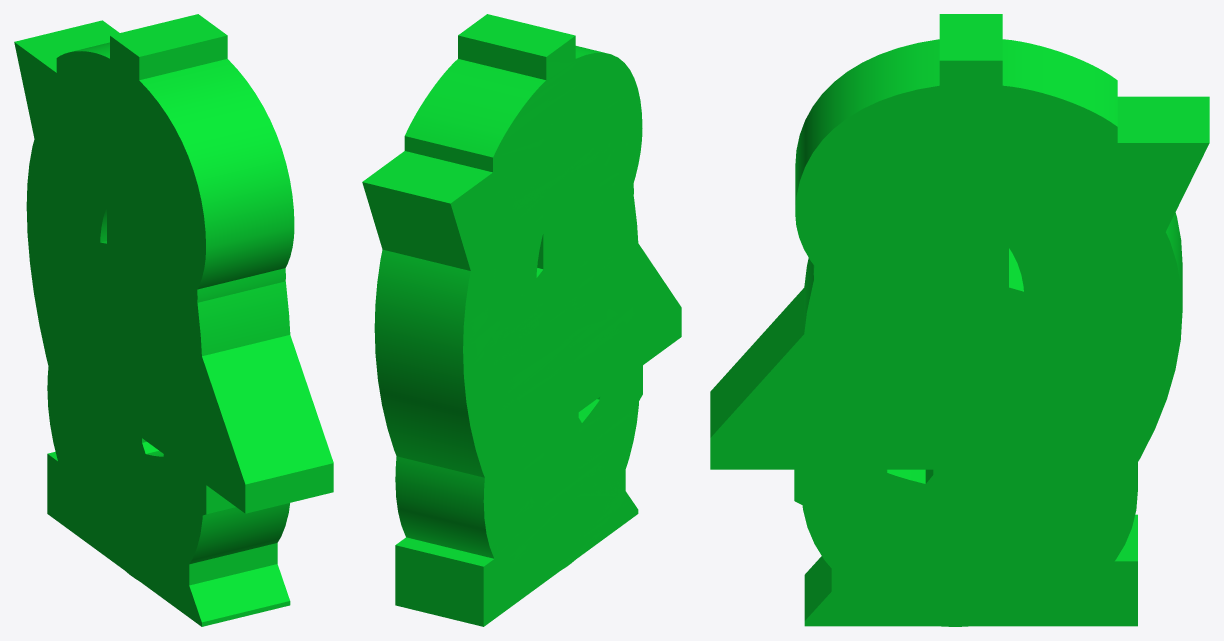
Rendered from sayilar2.fbx.
3 renders of one model, left to right at view 1: azimuth 30°, elevation 25°; view 2: azimuth 150°, elevation 25°; view 3: azimuth 270°, elevation 25°, orthographic. The views are drawn at different scales.
Visible parts, largest first — view 1: dollar, 4, 0, 2, 1, 8, 7, 5, 3, 9, 6; view 2: dollar, 9, 8, 4, 7, 2, 0, 1, 5, 6, 3; view 3: dollar, 0, 3, 4, 2, 8, 9, 6, 7, 5, 1.
Boxes of the visible parts, x1=… form: dollar: x1=45, y1=14, x2=294, y2=580; 4: x1=81, y1=222, x2=333, y2=574; 0: x1=46, y1=108, x2=290, y2=576; 2: x1=47, y1=122, x2=290, y2=626; 1: x1=107, y1=119, x2=189, y2=582; 8: x1=47, y1=105, x2=289, y2=579; 7: x1=14, y1=20, x2=171, y2=568; 5: x1=50, y1=95, x2=277, y2=592; 3: x1=53, y1=107, x2=181, y2=588; 9: x1=26, y1=93, x2=178, y2=541; 6: x1=56, y1=105, x2=203, y2=581; dollar: x1=404, y1=14, x2=642, y2=568; 9: x1=374, y1=131, x2=614, y2=549; 8: x1=395, y1=112, x2=639, y2=582; 4: x1=517, y1=137, x2=681, y2=581; 7: x1=362, y1=88, x2=608, y2=485; 2: x1=395, y1=106, x2=638, y2=626; 0: x1=482, y1=108, x2=639, y2=579; 1: x1=537, y1=126, x2=625, y2=582; 5: x1=487, y1=152, x2=625, y2=579; 6: x1=489, y1=141, x2=639, y2=579; 3: x1=489, y1=99, x2=617, y2=579; dollar: x1=794, y1=14, x2=1142, y2=626; 0: x1=801, y1=137, x2=1140, y2=624; 3: x1=847, y1=137, x2=1121, y2=626; 4: x1=710, y1=143, x2=1065, y2=613; 2: x1=804, y1=143, x2=1137, y2=626; 8: x1=802, y1=137, x2=1137, y2=625; 9: x1=855, y1=137, x2=1182, y2=607; 6: x1=802, y1=137, x2=1109, y2=624; 7: x1=869, y1=96, x2=1209, y2=612; 5: x1=831, y1=143, x2=1130, y2=626; 1: x1=831, y1=149, x2=1008, y2=626.
Size of the model in its own units: 0.3458 by 1.96 by 1.57.
